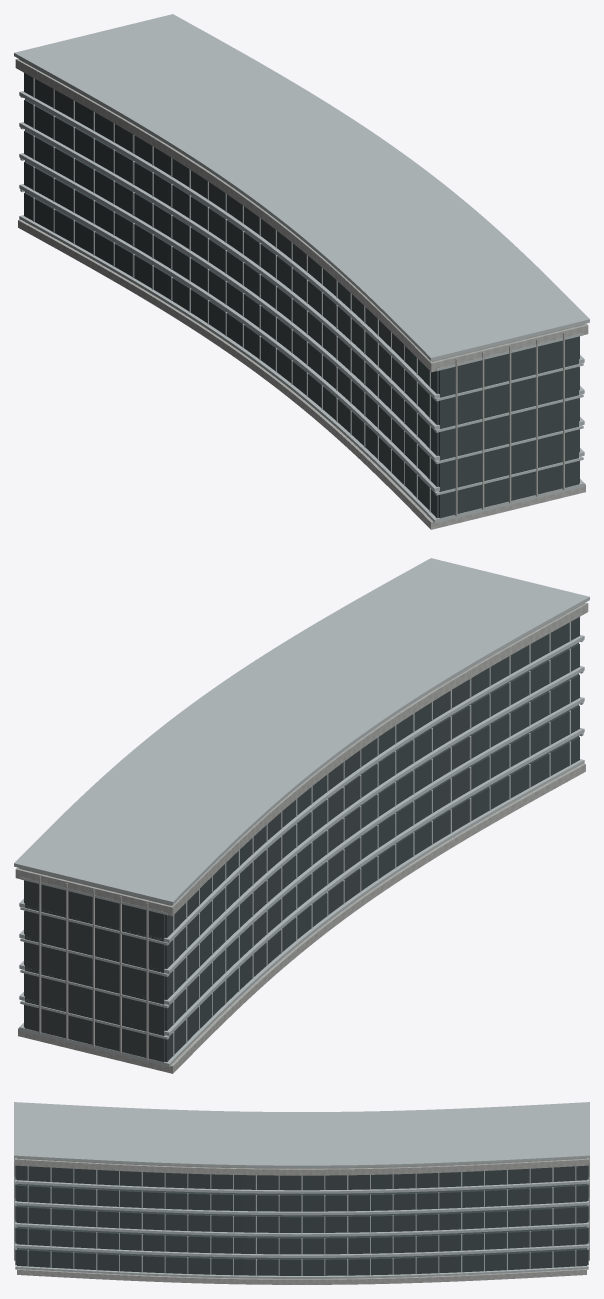
File: architecture.west_academic.v1.glb
The picture shows the model from 3 angles, top to bottom: view 1: azimuth 30°, elevation 25°; view 2: azimuth 150°, elevation 25°; view 3: azimuth 270°, elevation 25°; orthographic projection. The views are drawn at different scales.
Visible parts, largest first — view 1: academic_parapet_cap, academic_end_glass_south, academic_glass_band_00, academic_glass_band_02, academic_glass_band_01, academic_glass_band_03, academic_glass_band_04, academic_roof_fascia, academic_plinth, academic_floor_slab_00, academic_floor_slab_01, academic_floor_slab_03 (+2 smaller); view 2: academic_parapet_cap, academic_end_glass_north, academic_glass_band_00, academic_glass_band_02, academic_glass_band_01, academic_glass_band_03, academic_glass_band_04, academic_roof_fascia, academic_plinth, academic_floor_slab_00, academic_floor_slab_04, academic_floor_slab_01 (+2 smaller); view 3: academic_parapet_cap, academic_glass_band_00, academic_glass_band_03, academic_glass_band_01, academic_glass_band_02, academic_glass_band_04, academic_roof_fascia, academic_plinth, academic_floor_slab_03, academic_floor_slab_02, academic_floor_slab_04, academic_floor_slab_01 (+2 smaller).
Part boxes in pixels (bbox=[...]): academic_parapet_cap: bbox=[14, 14, 589, 361]; academic_end_glass_south: bbox=[438, 336, 578, 518]; academic_glass_band_00: bbox=[24, 192, 579, 518]; academic_glass_band_02: bbox=[24, 130, 579, 455]; academic_glass_band_01: bbox=[24, 161, 579, 486]; academic_glass_band_03: bbox=[24, 99, 579, 424]; academic_glass_band_04: bbox=[24, 73, 579, 393]; academic_roof_fascia: bbox=[15, 58, 588, 372]; academic_plinth: bbox=[18, 219, 585, 529]; academic_floor_slab_00: bbox=[19, 215, 584, 523]; academic_floor_slab_01: bbox=[19, 184, 584, 492]; academic_floor_slab_03: bbox=[19, 122, 584, 430]; academic_parapet_cap: bbox=[14, 558, 589, 905]; academic_end_glass_north: bbox=[25, 880, 165, 1062]; academic_glass_band_00: bbox=[24, 736, 579, 1062]; academic_glass_band_02: bbox=[24, 674, 579, 999]; academic_glass_band_01: bbox=[24, 705, 579, 1030]; academic_glass_band_03: bbox=[24, 643, 579, 968]; academic_glass_band_04: bbox=[24, 617, 579, 937]; academic_roof_fascia: bbox=[15, 602, 588, 916]; academic_plinth: bbox=[18, 763, 585, 1073]; academic_floor_slab_00: bbox=[19, 759, 584, 1067]; academic_floor_slab_04: bbox=[19, 635, 584, 943]; academic_floor_slab_01: bbox=[19, 728, 584, 1036]; academic_parapet_cap: bbox=[14, 1102, 589, 1167]; academic_glass_band_00: bbox=[17, 1248, 586, 1275]; academic_glass_band_03: bbox=[17, 1184, 586, 1211]; academic_glass_band_01: bbox=[17, 1226, 586, 1254]; academic_glass_band_02: bbox=[17, 1205, 586, 1232]; academic_glass_band_04: bbox=[17, 1165, 586, 1190]; academic_roof_fascia: bbox=[15, 1158, 588, 1175]; academic_plinth: bbox=[17, 1269, 586, 1284]; academic_floor_slab_03: bbox=[15, 1201, 588, 1215]; academic_floor_slab_02: bbox=[15, 1222, 588, 1236]; academic_floor_slab_04: bbox=[15, 1179, 588, 1193]; academic_floor_slab_01: bbox=[15, 1243, 588, 1257].
Size of the model in its own units: 19 by 16.72 by 72.72.
5 materials, 3 textured.
